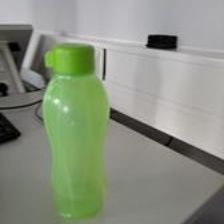bottle: (39, 40, 108, 219)
